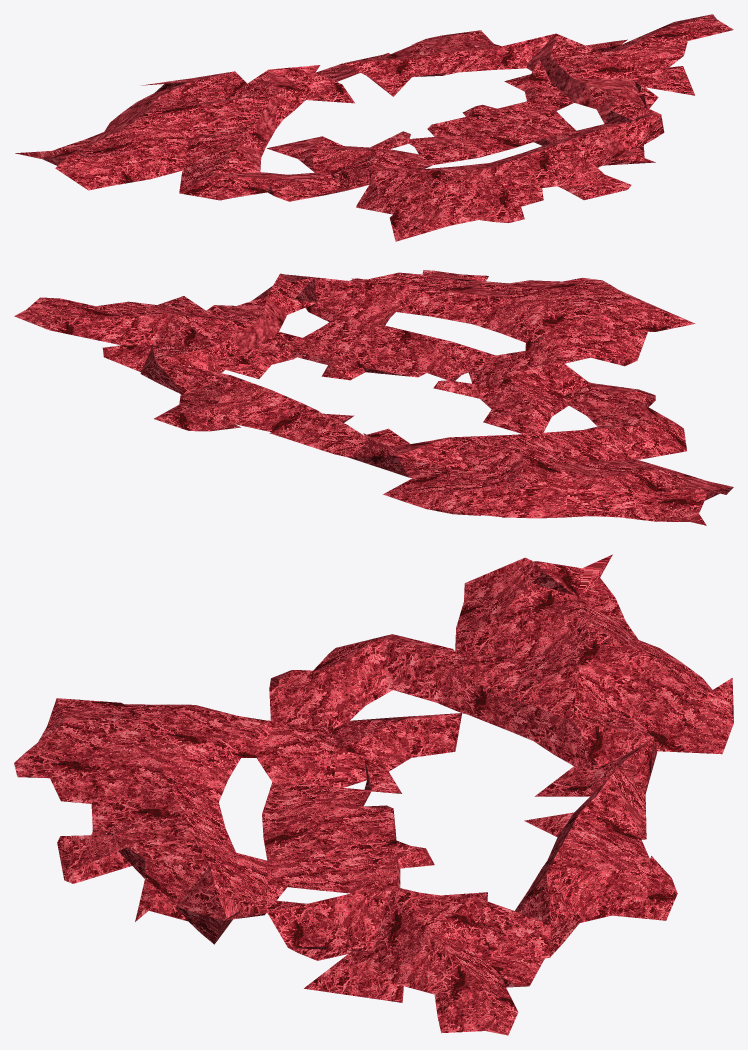
File: red_fallen_leave1.glb
3 views of the same model, one above another, from view 1: azimuth 30°, elevation 25°; view 2: azimuth 150°, elevation 25°; view 3: azimuth 270°, elevation 25° (orthographic). The views are drawn at different scales.
Parts seen in each view (by area): view 1: Icosphere; view 2: Icosphere; view 3: Icosphere.
Boxes of the visible parts, left/top/right/bottom form: Icosphere: left=15, top=14, right=733, bottom=241; Icosphere: left=14, top=270, right=733, bottom=525; Icosphere: left=14, top=554, right=733, bottom=1035.
Size of the model in its own units: 5.45 by 0.2126 by 3.42.
Materials: 1 (1 with a texture image).
